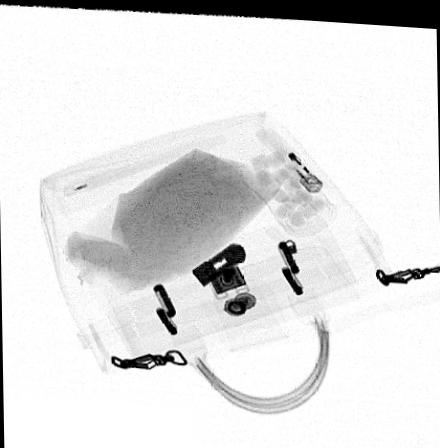Lighter: (256, 122, 324, 189)
